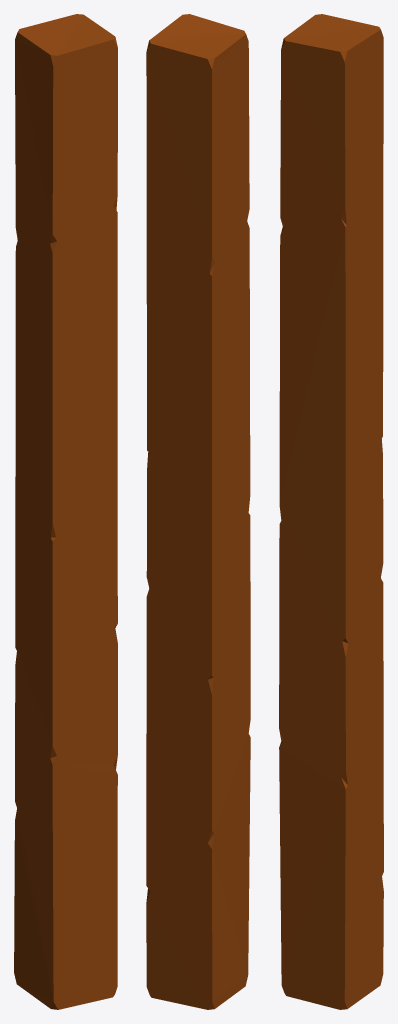
The model's file is WoodPillarSingleLong.fbx.
3 views of the same model, side by side, from view 1: azimuth 30°, elevation 25°; view 2: azimuth 150°, elevation 25°; view 3: azimuth 330°, elevation 25° (orthographic).
Parts seen in each view (by area): view 1: WoodPillarSingleLong; view 2: WoodPillarSingleLong; view 3: WoodPillarSingleLong.
Boxes of the visible parts, x1,y1,x2,y2 form: WoodPillarSingleLong: (14,14,117,1009); WoodPillarSingleLong: (146,14,250,1009); WoodPillarSingleLong: (279,14,383,1009).
Size of the model in its own units: 204 by 2810 by 205.
